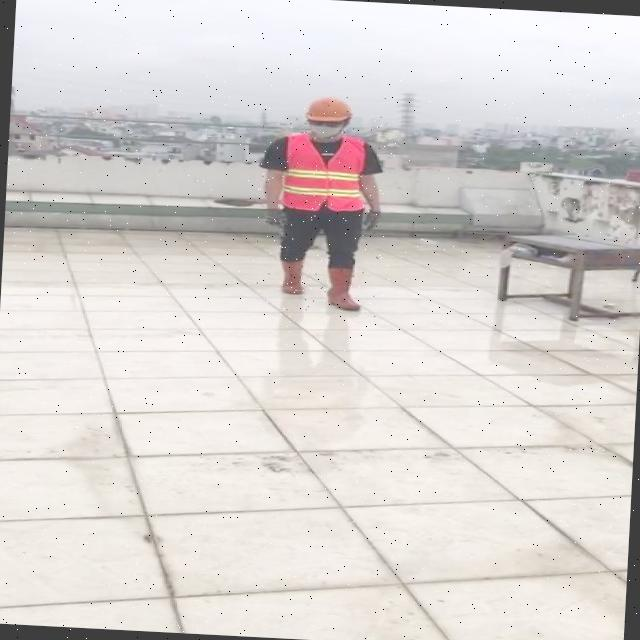boots: (326, 266, 363, 310), (277, 256, 308, 296)
helmet: (304, 95, 353, 122)
vest: (281, 131, 367, 214)
